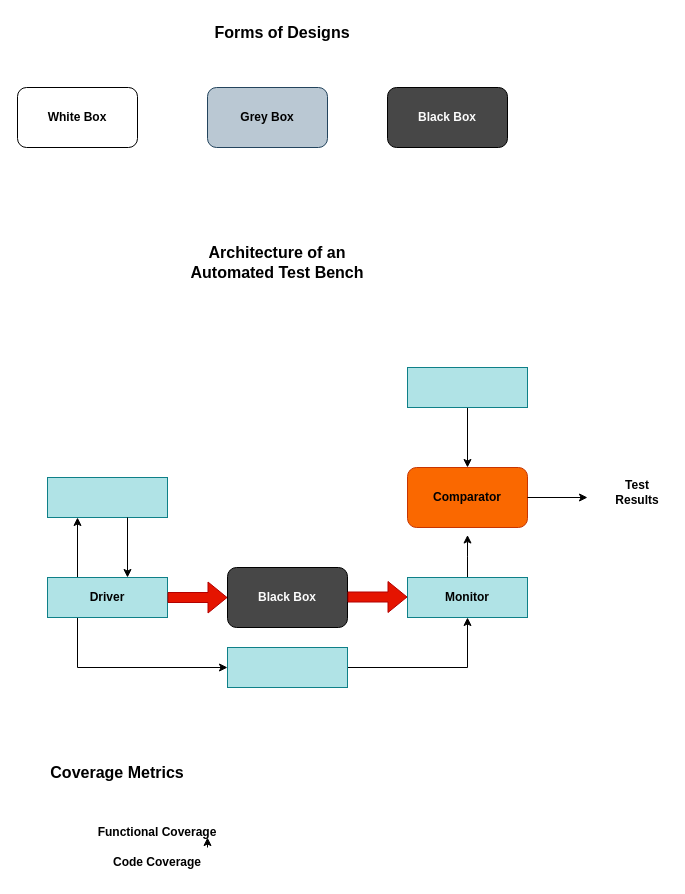
Image size: 685x894. Some labels were removed from this diagram. Here are the shapes that lost their labels. From the top down, the centre of each, then its label:
the point at 467,387: Expected Values
the point at 107,497: Stimulus Generator
the point at 287,667: Synchronizer
